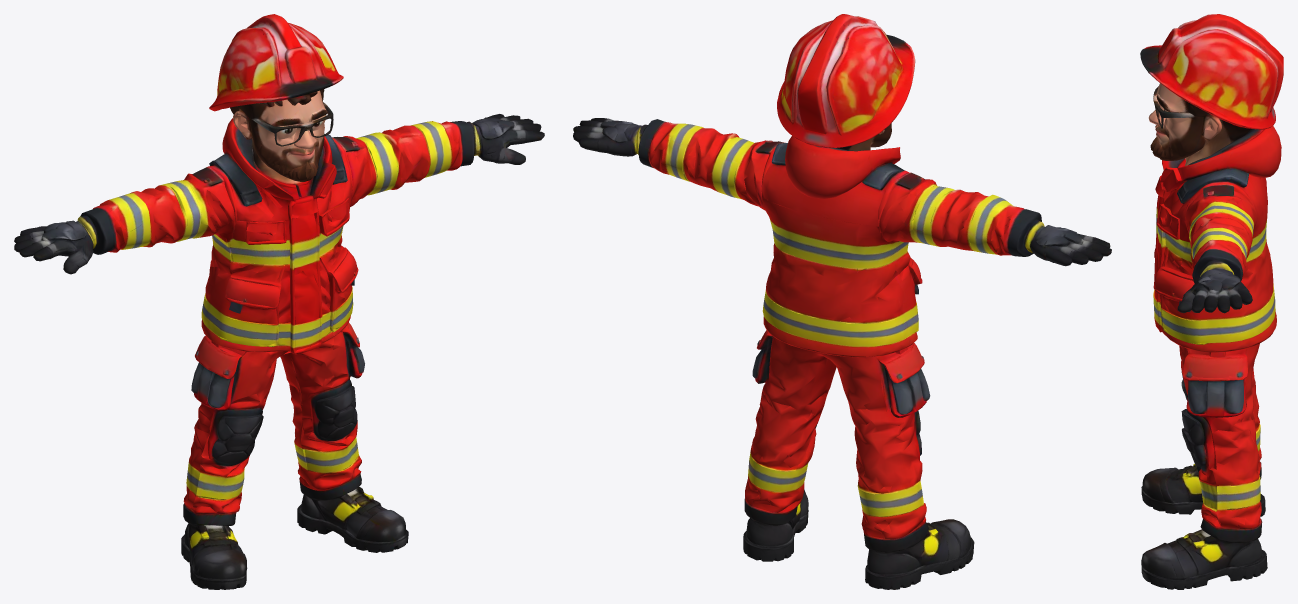
The model's file is charFirefighter.glb.
The picture shows the model from 3 angles, left to right: view 1: azimuth 30°, elevation 25°; view 2: azimuth 150°, elevation 25°; view 3: azimuth 270°, elevation 25°; orthographic projection. The views are drawn at different scales.
Parts seen in each view (by area): view 1: model; view 2: model; view 3: model.
Part boxes in pixels (bbox=[...]): model: bbox=[14, 14, 544, 589]; model: bbox=[573, 14, 1111, 589]; model: bbox=[1140, 14, 1283, 589].
Size of the model in its own units: 1.9 by 1.85 by 0.4562.
1 material, 1 textured.
